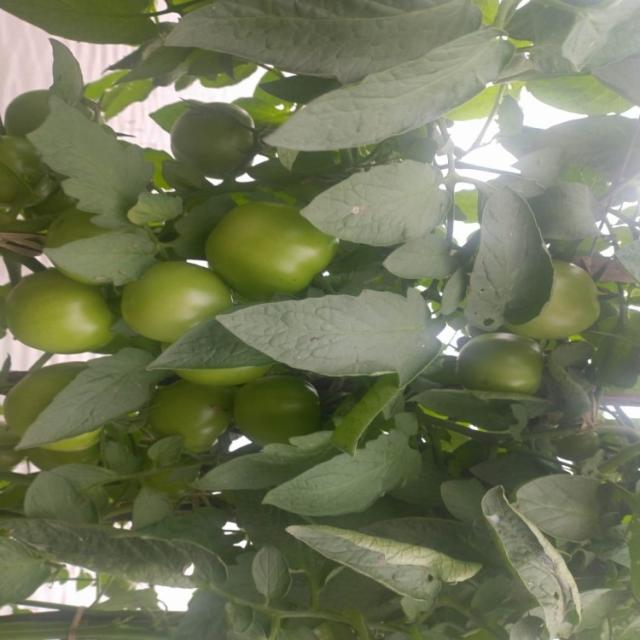tomato: (207, 196, 337, 299), (1, 261, 118, 361), (158, 89, 259, 189), (117, 256, 219, 351), (231, 372, 337, 452), (541, 253, 626, 352), (447, 322, 545, 396), (156, 371, 232, 463), (1, 131, 56, 221)
